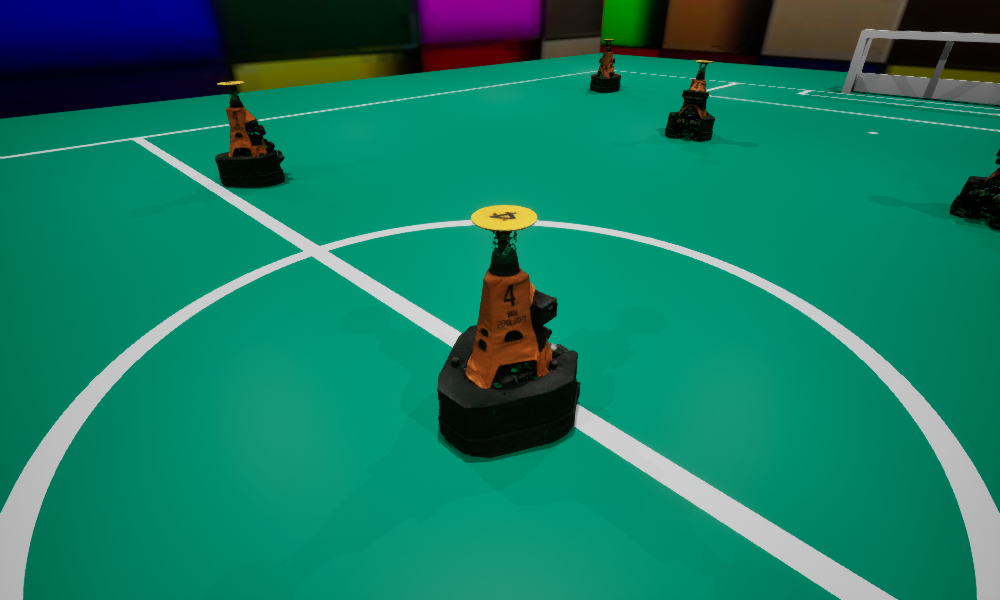o: (437, 205, 580, 457), (215, 81, 284, 187), (665, 60, 714, 140), (950, 149, 999, 228), (590, 39, 620, 92)
